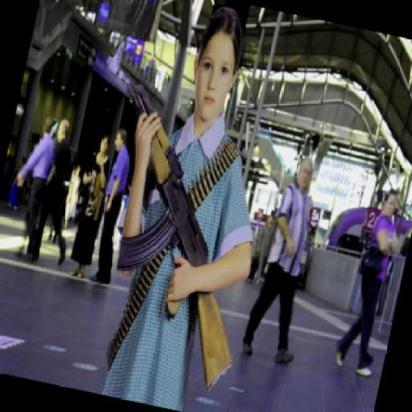Gun: (54, 63, 294, 402)
